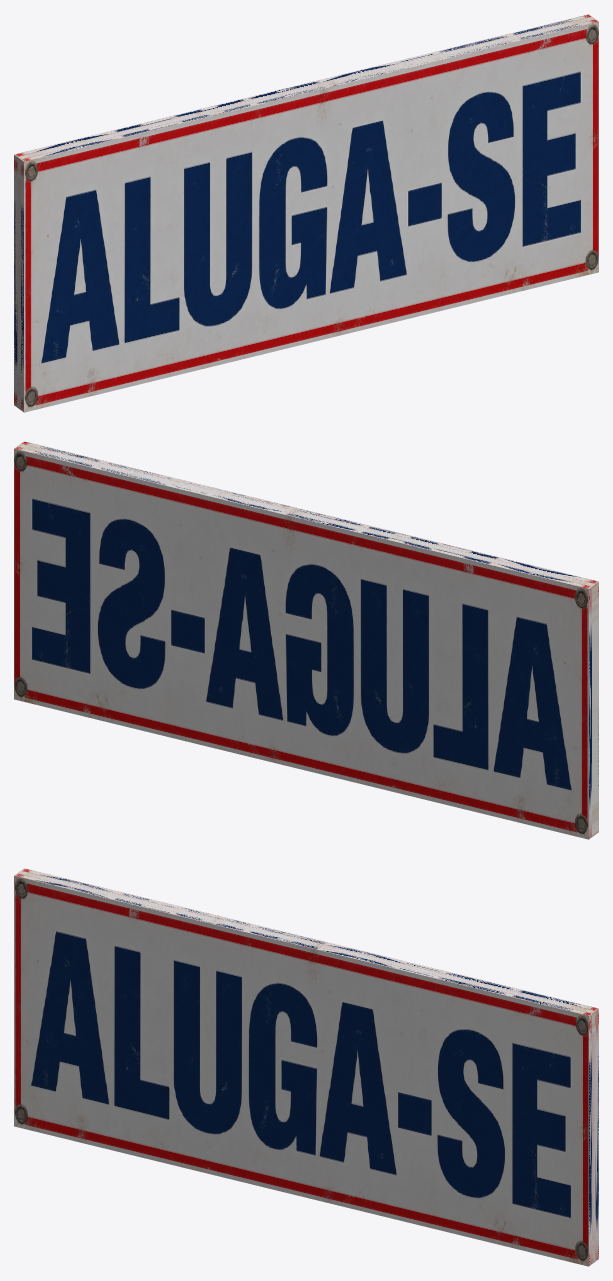
Rendered from placa_aluga_se.glb.
3 renders of one model, top to bottom at view 1: azimuth 30°, elevation 25°; view 2: azimuth 150°, elevation 25°; view 3: azimuth 330°, elevation 25°, orthographic.
Parts seen in each view (by area): view 1: Loja_Fechada_Aluga; view 2: Loja_Fechada_Aluga; view 3: Loja_Fechada_Aluga.
Boxes of the visible parts, x1,y1,x2,y2 form: Loja_Fechada_Aluga: (14, 14, 598, 412); Loja_Fechada_Aluga: (14, 441, 598, 839); Loja_Fechada_Aluga: (14, 868, 598, 1266).
Bounding box in the file's own units: 1.2 × 0.5 × 0.0367.
Materials: 1 (1 with a texture image).
